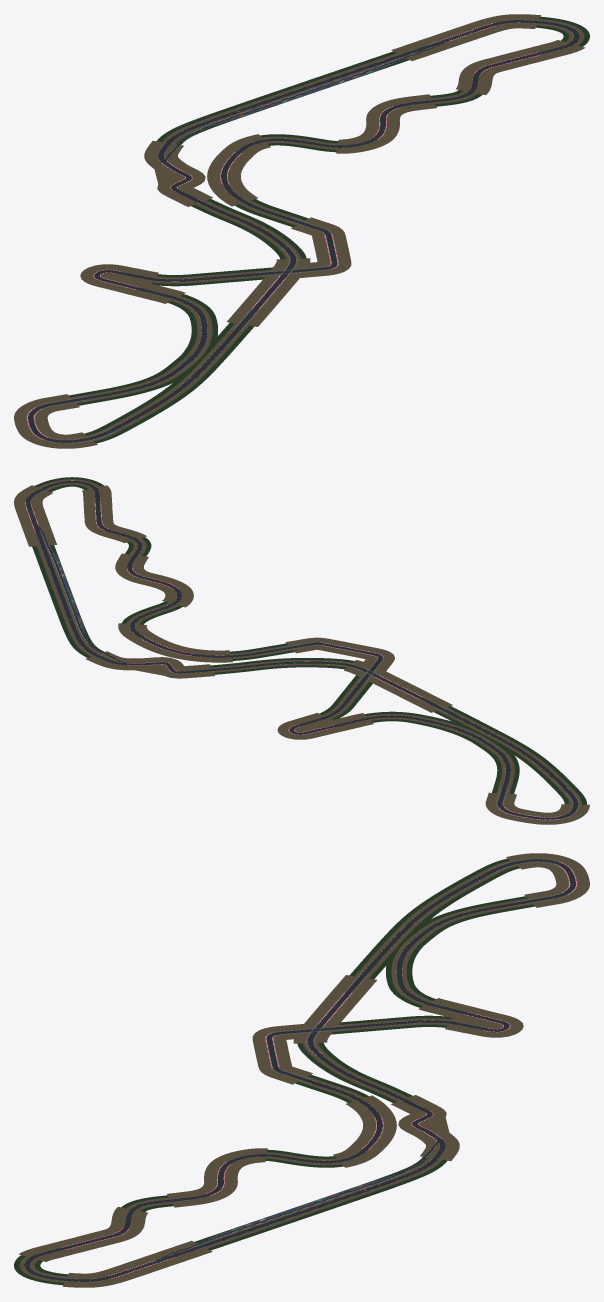
File: suzuka.glb
The picture shows the model from 3 angles, top to bottom: view 1: azimuth 90°, elevation 25°; view 2: azimuth 150°, elevation 25°; view 3: azimuth 270°, elevation 25°; orthographic projection. The views are drawn at different scales.
Visible parts, largest first — view 1: suzuka_02_5a4f3a, suzuka_05_272b35, suzuka_00_213823, suzuka_01_5a4f3a, suzuka_06_747e87, suzuka_09_242c38, suzuka_03_d90429, suzuka_04_ffffff; view 2: suzuka_02_5a4f3a, suzuka_05_272b35, suzuka_00_213823, suzuka_01_5a4f3a, suzuka_06_747e87, suzuka_09_242c38, suzuka_04_ffffff, suzuka_03_d90429; view 3: suzuka_02_5a4f3a, suzuka_05_272b35, suzuka_00_213823, suzuka_01_5a4f3a, suzuka_06_747e87, suzuka_09_242c38, suzuka_03_d90429, suzuka_04_ffffff.
Boxes of the visible parts, bbox=[...] form: suzuka_02_5a4f3a: bbox=[14, 14, 585, 448]; suzuka_05_272b35: bbox=[28, 20, 579, 442]; suzuka_00_213823: bbox=[69, 16, 589, 443]; suzuka_01_5a4f3a: bbox=[71, 19, 584, 441]; suzuka_06_747e87: bbox=[26, 217, 338, 443]; suzuka_09_242c38: bbox=[164, 30, 476, 165]; suzuka_03_d90429: bbox=[27, 23, 540, 440]; suzuka_04_ffffff: bbox=[27, 23, 541, 439]; suzuka_02_5a4f3a: bbox=[14, 485, 589, 824]; suzuka_05_272b35: bbox=[25, 481, 578, 819]; suzuka_00_213823: bbox=[32, 477, 586, 804]; suzuka_01_5a4f3a: bbox=[37, 479, 582, 804]; suzuka_06_747e87: bbox=[278, 642, 579, 820]; suzuka_09_242c38: bbox=[30, 511, 134, 664]; suzuka_04_ffffff: bbox=[25, 501, 558, 819]; suzuka_03_d90429: bbox=[25, 502, 559, 819]; suzuka_02_5a4f3a: bbox=[18, 853, 589, 1287]; suzuka_05_272b35: bbox=[24, 859, 575, 1281]; suzuka_00_213823: bbox=[14, 858, 534, 1285]; suzuka_01_5a4f3a: bbox=[19, 860, 532, 1282]; suzuka_06_747e87: bbox=[265, 858, 577, 1084]; suzuka_09_242c38: bbox=[127, 1136, 439, 1271]; suzuka_03_d90429: bbox=[63, 861, 576, 1278]; suzuka_04_ffffff: bbox=[62, 862, 576, 1278].
Size of the model in its own units: 1999 by 0.33 by 1120.
